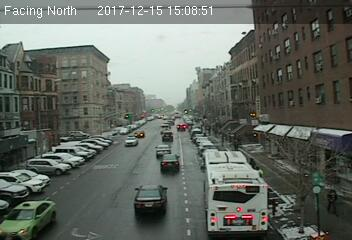bus: (202, 149, 271, 237)
car: (1, 199, 57, 240), (133, 184, 168, 214), (159, 153, 180, 170), (154, 143, 171, 157), (124, 135, 139, 146), (176, 123, 186, 131)
